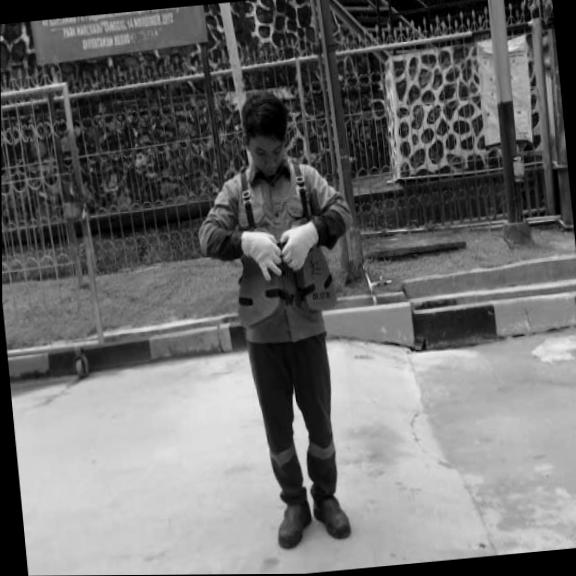safety_vest: (224, 207, 348, 331)
